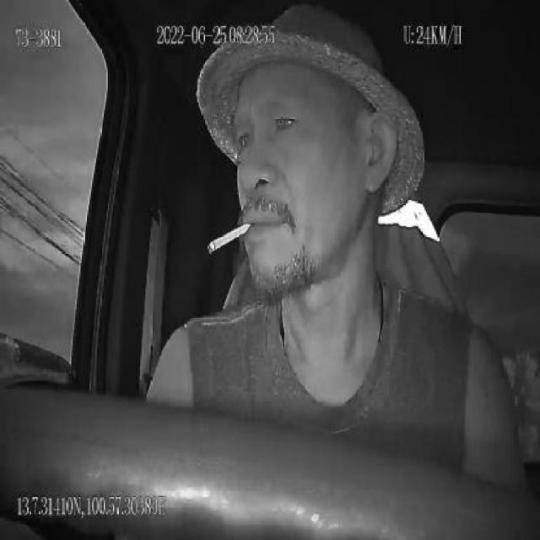smoking: (210, 218, 250, 252)
